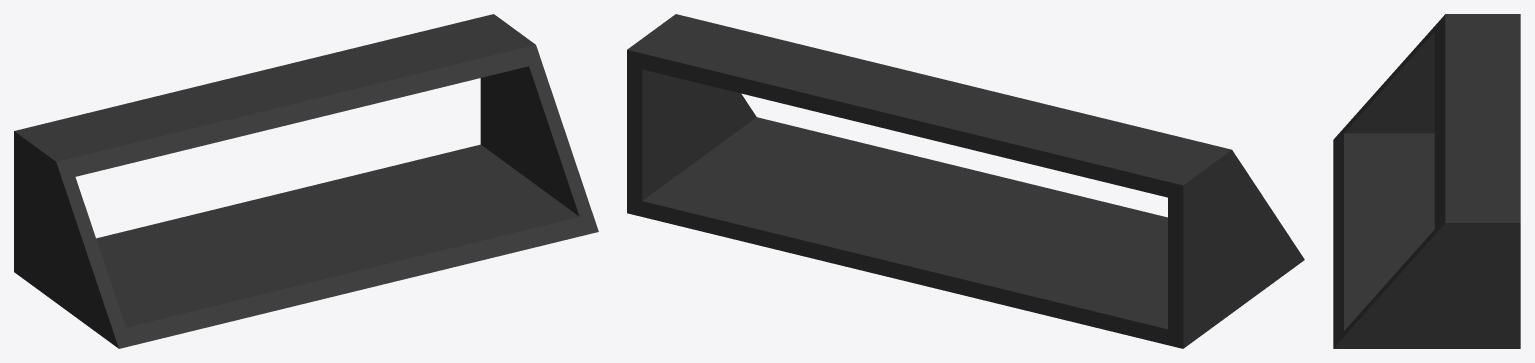
Rendered from WallShelf_HRect.fbx.
3 views of the same model, side by side, from view 1: azimuth 30°, elevation 25°; view 2: azimuth 150°, elevation 25°; view 3: azimuth 270°, elevation 25° (orthographic). The views are drawn at different scales.
Parts seen in each view (by area): view 1: WallShelf_HRect; view 2: WallShelf_HRect; view 3: WallShelf_HRect.
Part boxes in pixels (box(x1,y1,x2,y2)): WallShelf_HRect: box(14, 14, 598, 348); WallShelf_HRect: box(627, 14, 1304, 348); WallShelf_HRect: box(1333, 14, 1520, 348).
Bounding box in the file's own units: 116 × 32.66 × 44.08.
